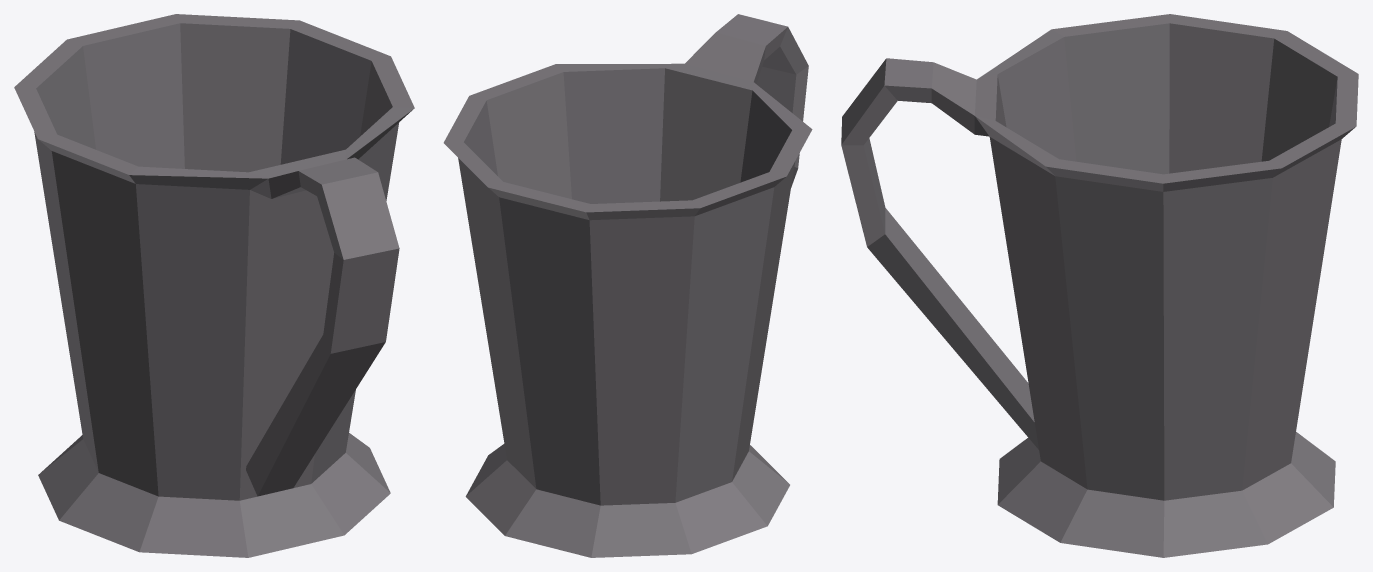
The model's file is tablecupmetal01.obj.
3 views of the same model, side by side, from view 1: azimuth 30°, elevation 25°; view 2: azimuth 150°, elevation 25°; view 3: azimuth 270°, elevation 25° (orthographic). The views are drawn at different scales.
Visible parts, largest first — view 1: Cylinder.001_Cylinder; view 2: Cylinder.001_Cylinder; view 3: Cylinder.001_Cylinder.
Part boxes in pixels (x1,y1,x2,y2): Cylinder.001_Cylinder: (14,14,414,557); Cylinder.001_Cylinder: (443,14,812,557); Cylinder.001_Cylinder: (841,14,1358,557).
Bounding box in the file's own units: 0.1038 × 0.1166 × 0.1338.
